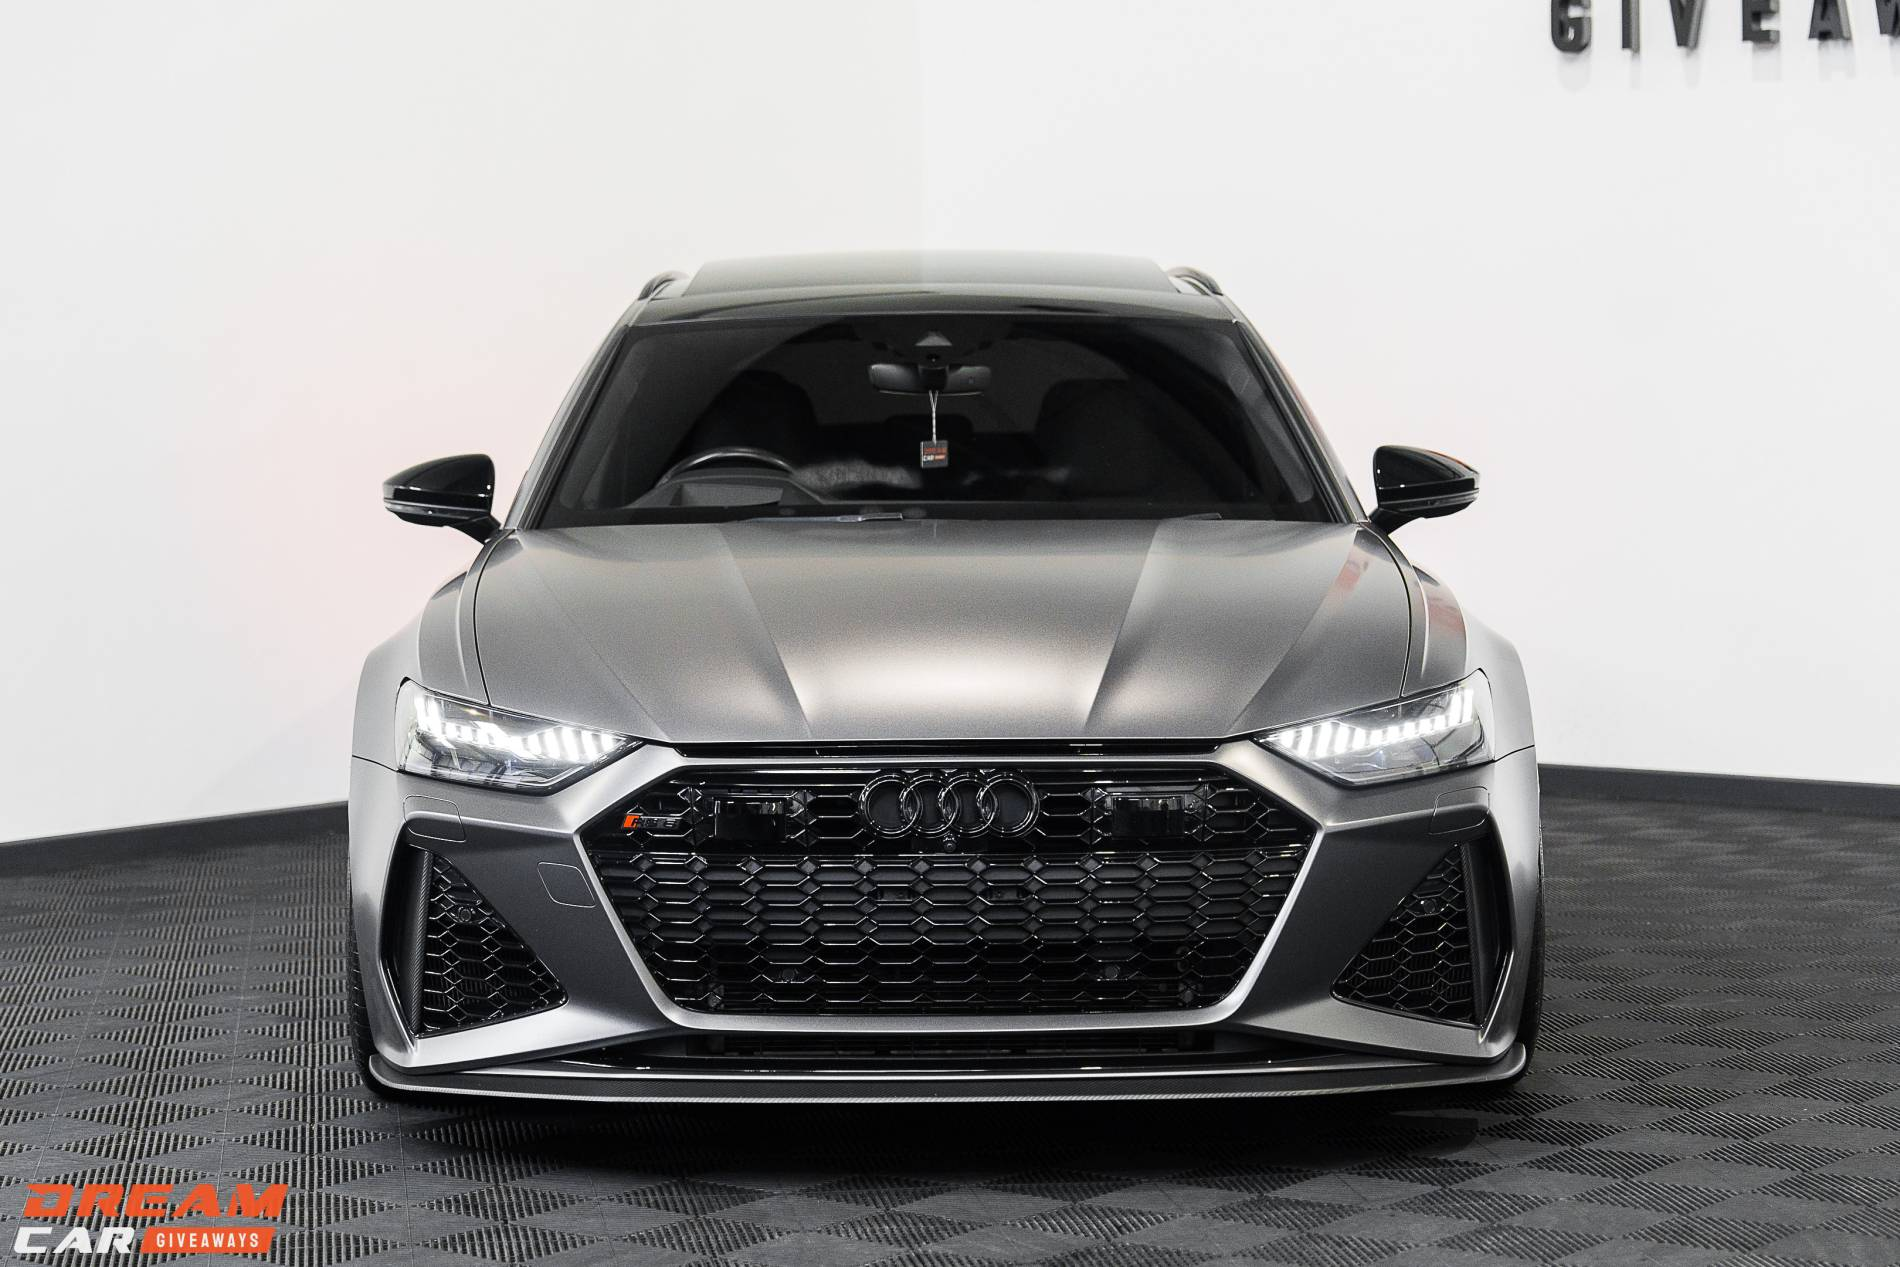car: (324, 250, 1566, 1123)
